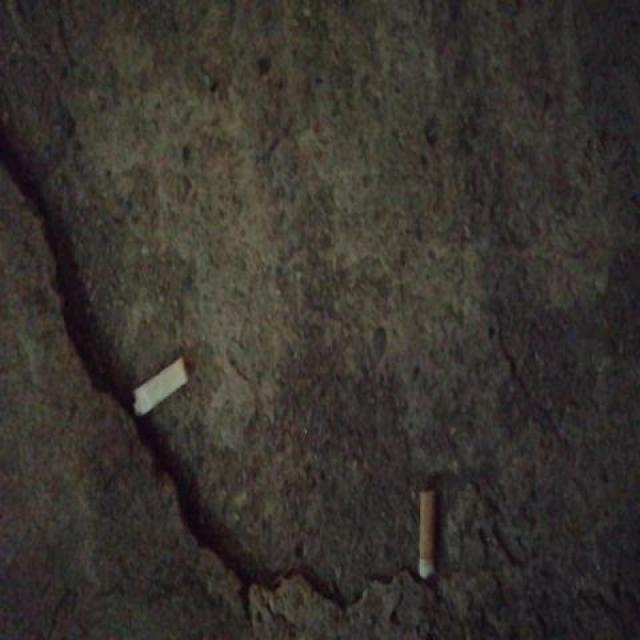non-organic waste: (130, 352, 193, 424), (414, 484, 439, 584)
